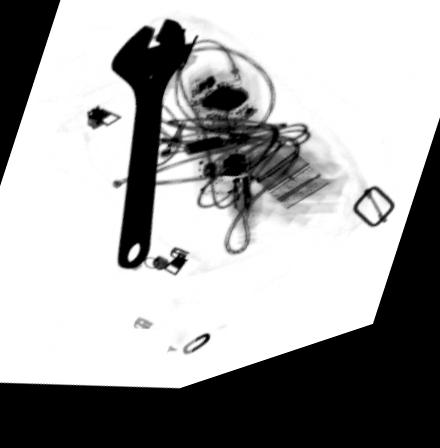Wrench: (110, 30, 187, 279)
